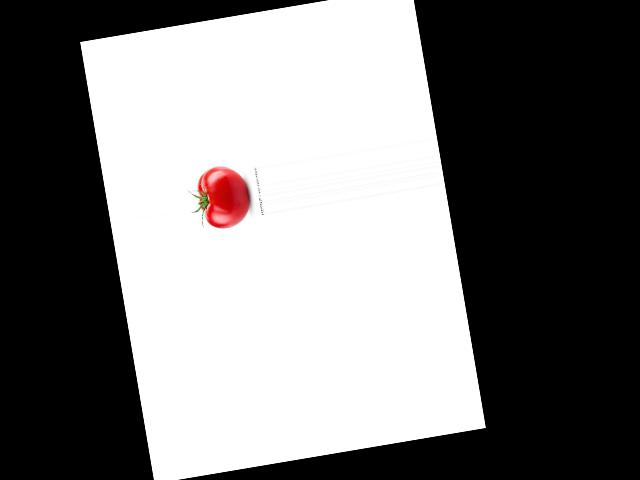tomato: (195, 162, 253, 231)
